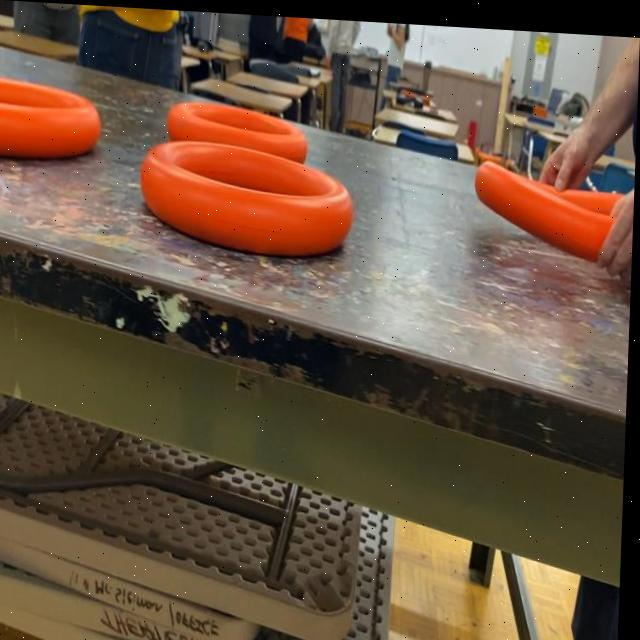note: (139, 135, 357, 259), (471, 153, 628, 256), (166, 93, 309, 162), (0, 76, 104, 158)
